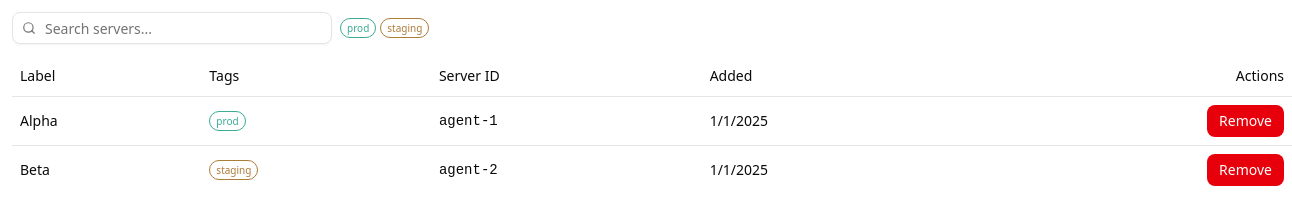
Test: ServerList › clicking label enters edit mode
This screenshot has width=1292, height=203.
Click the button "Alpha".
click(39, 120)  # box [20, 110, 58, 130]
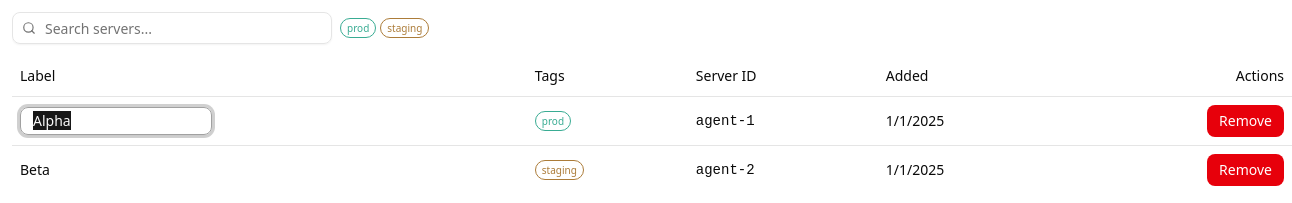
Check: the field showing "Alpha" is shown, box [20, 106, 212, 134]
